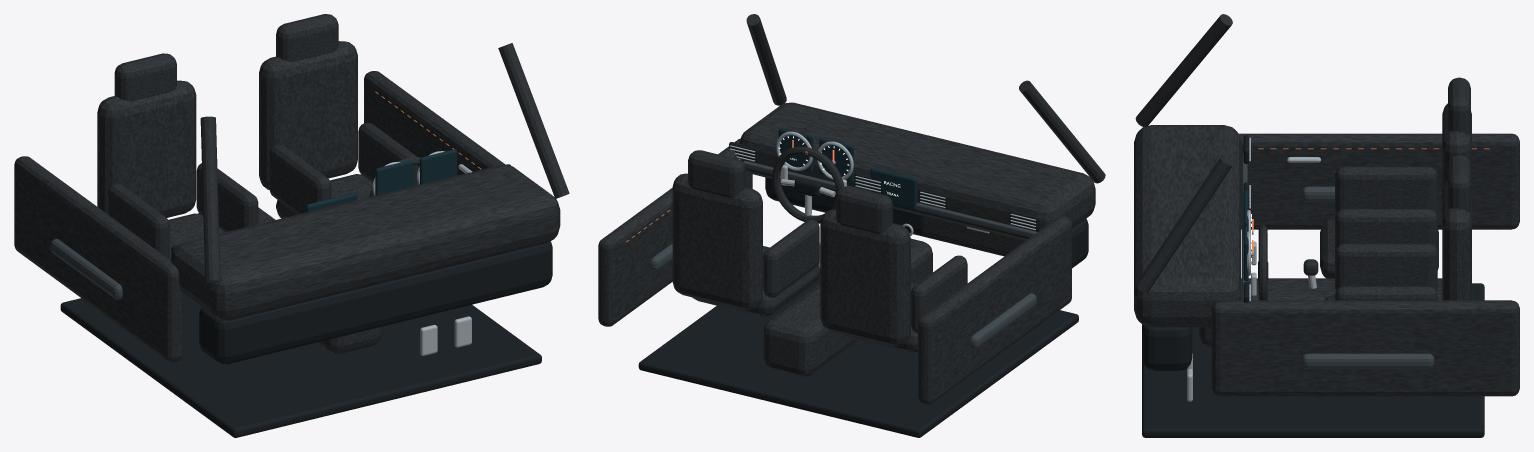
Rendered from sport.glb.
The picture shows the model from 3 angles, left to right: view 1: azimuth 30°, elevation 25°; view 2: azimuth 150°, elevation 25°; view 3: azimuth 270°, elevation 25°; orthographic projection. The views are drawn at different scales.
Parts seen in each view (by area): view 1: Cabin Grained charcoal leather.001, Cabin Soft black polymer.001, Cabin Display glass.001, Cabin Cabin trim.001, Cabin Brushed aluminium.001; view 2: Cabin Grained charcoal leather.001, Cabin Soft black polymer.001, Cabin Cabin trim.001, Cabin Display glass.001, Cabin Brushed aluminium.001, Leather steering rim; view 3: Cabin Grained charcoal leather.001, Cabin Soft black polymer.001, Cabin Cabin trim.001, Cabin Brushed aluminium.001, Leather steering rim, Cabin Display glass.001.
Boxes of the visible parts, <box> form: Cabin Grained charcoal leather.001: <box>14,14,569,362</box>; Cabin Soft black polymer.001: <box>60,164,552,437</box>; Cabin Display glass.001: <box>306,149,457,212</box>; Cabin Cabin trim.001: <box>50,238,122,299</box>; Cabin Brushed aluminium.001: <box>372,151,472,355</box>; Cabin Grained charcoal leather.001: <box>598,14,1105,404</box>; Cabin Soft black polymer.001: <box>638,142,1088,437</box>; Cabin Cabin trim.001: <box>651,160,1037,348</box>; Cabin Display glass.001: <box>778,128,917,209</box>; Cabin Brushed aluminium.001: <box>729,131,1036,268</box>; Leather steering rim: <box>772,146,843,223</box>; Cabin Grained charcoal leather.001: <box>1134,14,1519,396</box>; Cabin Soft black polymer.001: <box>1142,135,1484,437</box>; Cabin Cabin trim.001: <box>1242,153,1434,369</box>; Cabin Brushed aluminium.001: <box>1187,137,1320,401</box>; Leather steering rim: <box>1258,224,1267,300</box>; Cabin Display glass.001: <box>1243,190,1248,281</box>.
Bounding box in the file's own units: 1.88 × 1.37 × 1.69.
Materials: 8 (1 with a texture image).
